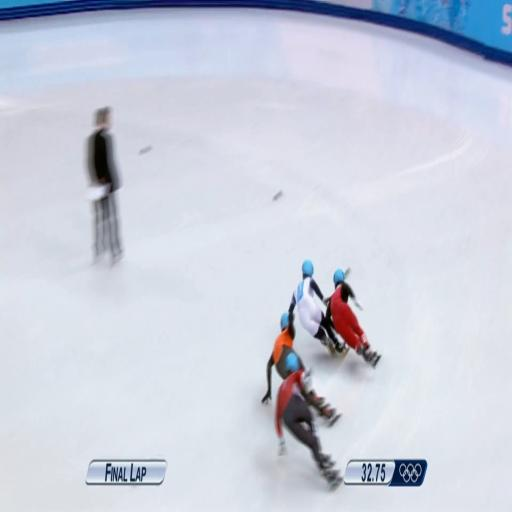Skater: (276, 358, 342, 488), (324, 269, 380, 367), (289, 260, 338, 353), (262, 312, 304, 403)
